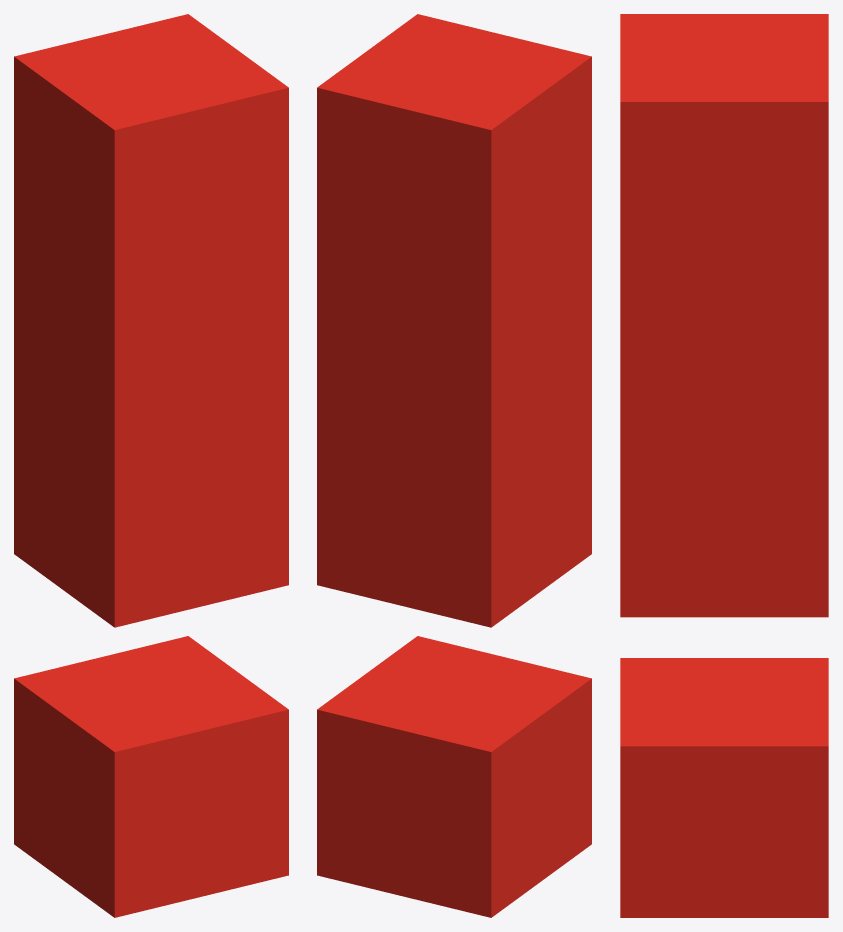
Rendered from Alert.fbx.
The picture shows the model from 3 angles, left to right: view 1: azimuth 30°, elevation 25°; view 2: azimuth 150°, elevation 25°; view 3: azimuth 270°, elevation 25°; orthographic projection. The views are drawn at different scales.
Visible parts, largest first — view 1: Alert; view 2: Alert; view 3: Alert.
Part boxes in pixels (x1,y1,x2,y2): Alert: (14, 14, 288, 917); Alert: (317, 14, 591, 917); Alert: (620, 14, 828, 917).
Bounding box in the file's own units: 0.22 × 0.95 × 0.22.
